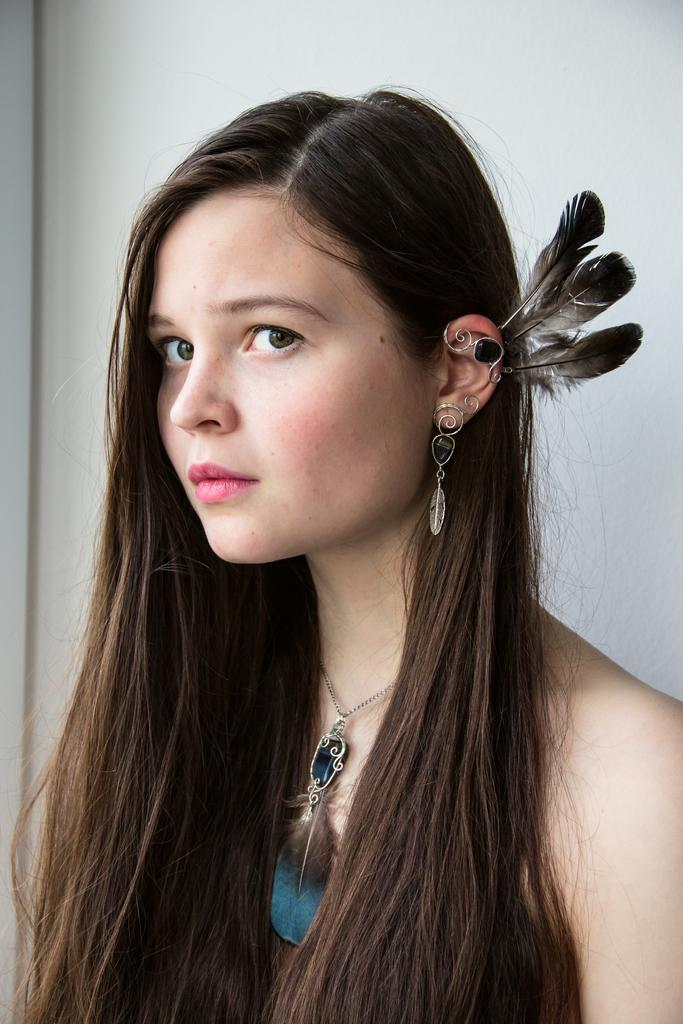earring: (422, 392, 469, 541)
